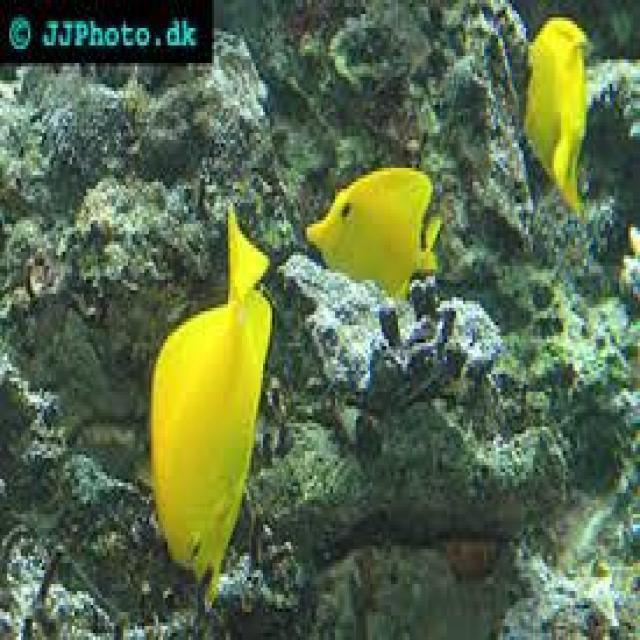TangFish: (146, 193, 277, 599), (306, 164, 439, 301), (522, 13, 590, 210)
